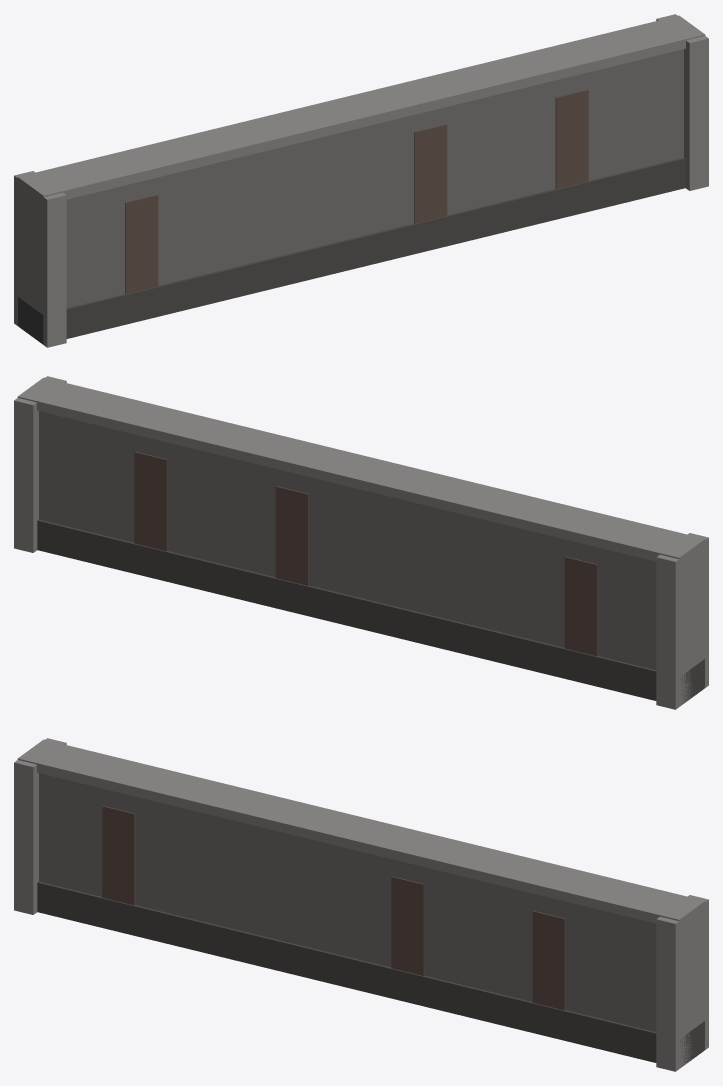
The model's file is B_wall.glb.
3 renders of one model, top to bottom at view 1: azimuth 30°, elevation 25°; view 2: azimuth 150°, elevation 25°; view 3: azimuth 330°, elevation 25°, orthographic.
Visible parts, largest first — view 1: Cube, Cube.002, Cube.001, Cube.006, Cube.007, Cube.005, Cube.003, Cube.004; view 2: Cube, Cube.002, Cube.001, Cube.006, Cube.007, Cube.005, Cube.003, Cube.004; view 3: Cube, Cube.002, Cube.001, Cube.007, Cube.006, Cube.004, Cube.003, Cube.005.
Part boxes in pixels (x1,y1,x2,y2): Cube: [66, 49, 683, 307]; Cube.002: [17, 15, 705, 204]; Cube.001: [18, 157, 685, 344]; Cube.006: [14, 171, 66, 347]; Cube.007: [656, 14, 708, 190]; Cube.005: [555, 89, 588, 189]; Cube.003: [125, 194, 158, 294]; Cube.004: [414, 124, 447, 223]; Cube: [39, 411, 656, 669]; Cube.002: [17, 377, 705, 566]; Cube.001: [37, 519, 704, 702]; Cube.006: [656, 533, 708, 709]; Cube.007: [14, 376, 66, 552]; Cube.005: [134, 451, 167, 551]; Cube.003: [564, 556, 597, 656]; Cube.004: [275, 486, 308, 585]; Cube: [39, 773, 656, 1031]; Cube.002: [17, 739, 705, 928]; Cube.001: [37, 881, 704, 1064]; Cube.007: [656, 895, 708, 1071]; Cube.006: [14, 738, 66, 914]; Cube.004: [391, 876, 424, 975]; Cube.003: [102, 806, 135, 905]; Cube.005: [532, 911, 565, 1010].
Size of the model in its own units: 10.3 by 2.22 by 0.9.
